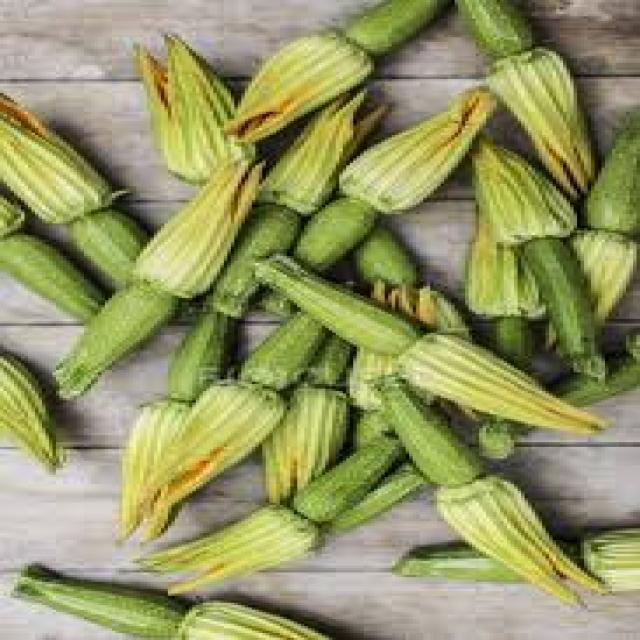Zucchini: (523, 236, 612, 382)
